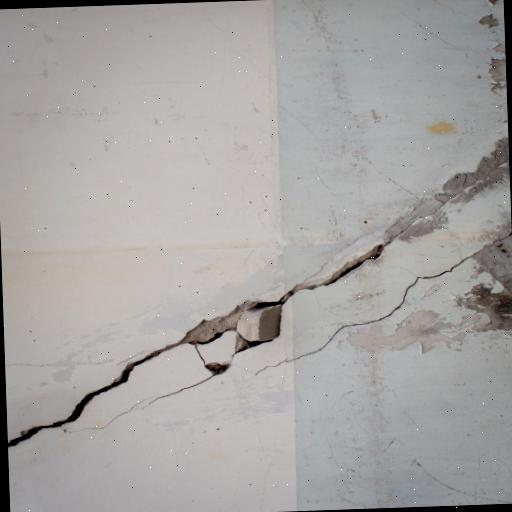spalling: (249, 248, 476, 377), (6, 337, 183, 448), (69, 345, 223, 435), (180, 300, 284, 372), (280, 244, 385, 300)
